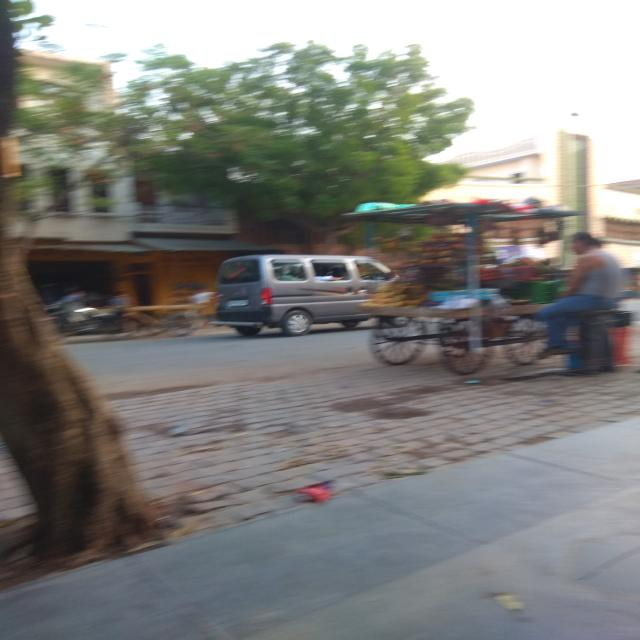Car: (213, 255, 392, 336)
